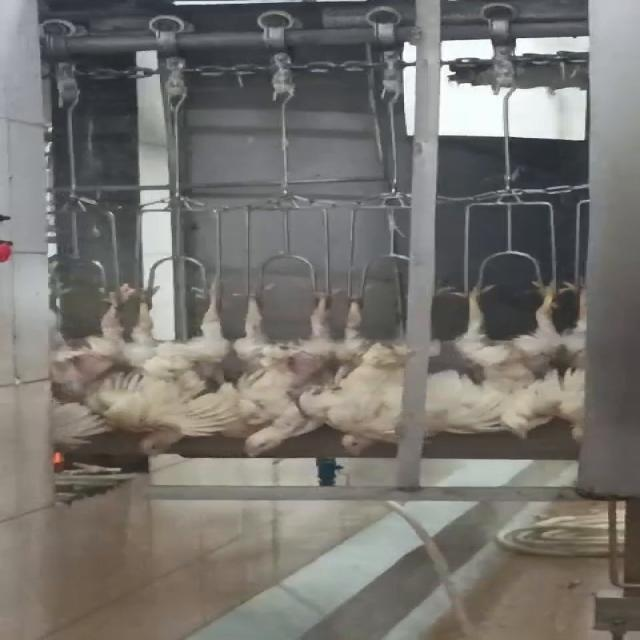chicken: (425, 273, 571, 440), (226, 282, 336, 459), (43, 274, 144, 462), (123, 279, 224, 461), (314, 285, 418, 460), (556, 266, 598, 450)
